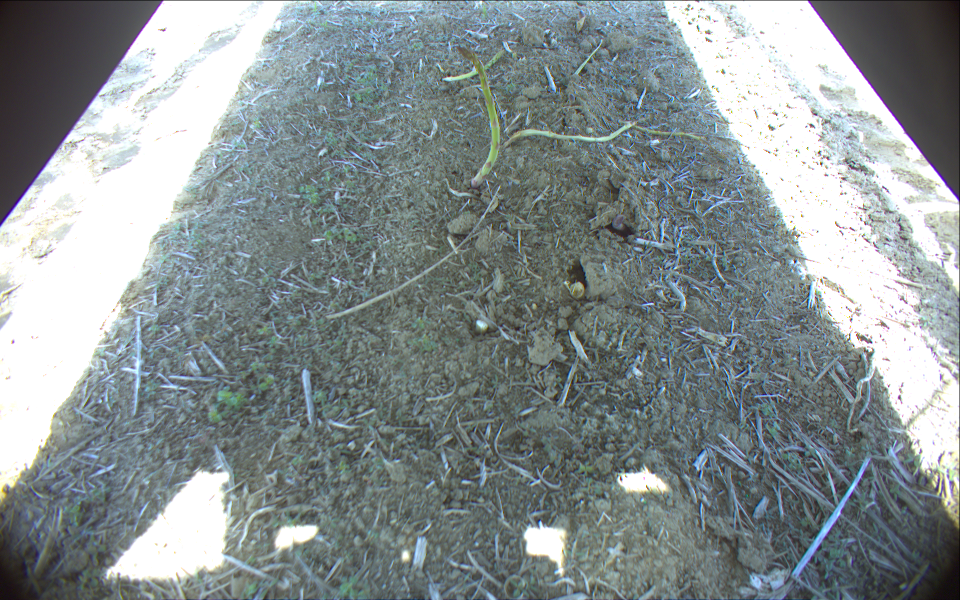aspa: (457, 45, 501, 189), (503, 113, 654, 146), (441, 50, 507, 84), (622, 119, 704, 141), (571, 37, 604, 76)
